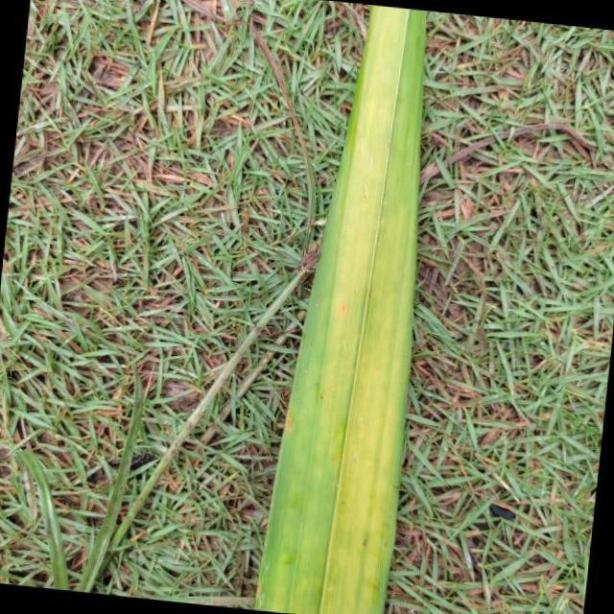nitrogen: (251, 0, 430, 614)
